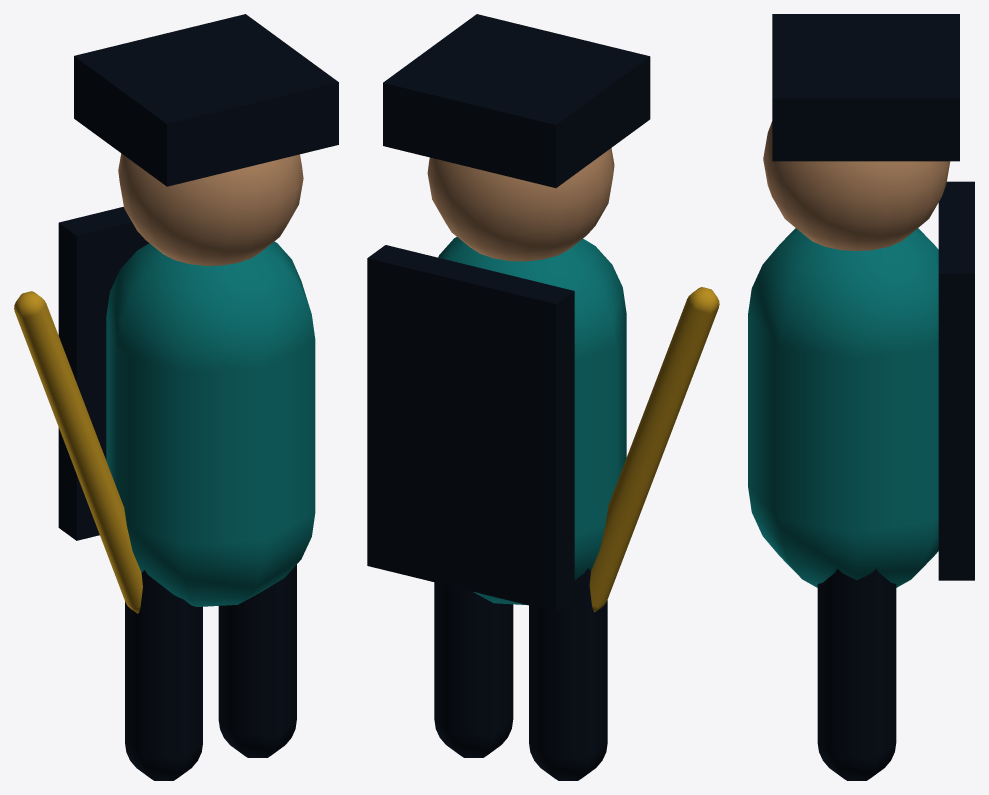
The model's file is action3d-avatar.glb.
3 views of the same model, side by side, from view 1: azimuth 30°, elevation 25°; view 2: azimuth 150°, elevation 25°; view 3: azimuth 270°, elevation 25° (orthographic).
Parts seen in each view (by area): view 1: Body, Hair, Head, RightLeg, Cape, LeftLeg, Sword; view 2: Cape, Hair, Body, RightLeg, Head, LeftLeg, Sword; view 3: Body, Hair, LeftLeg, Cape, Head.
Part boxes in pixels (x1=…): Body: x1=106, y1=241, x2=315, y2=606; Hair: x1=74, y1=14, x2=338, y2=186; Head: x1=118, y1=153, x2=303, y2=265; RightLeg: x1=125, y1=570, x2=202, y2=780; Cape: x1=58, y1=206, x2=148, y2=540; LeftLeg: x1=218, y1=564, x2=296, y2=757; Sword: x1=14, y1=291, x2=142, y2=613; Cape: x1=367, y1=245, x2=574, y2=611; Hair: x1=383, y1=14, x2=650, y2=187; Body: x1=438, y1=237, x2=626, y2=605; RightLeg: x1=529, y1=568, x2=607, y2=780; Head: x1=427, y1=148, x2=614, y2=261; LeftLeg: x1=434, y1=582, x2=513, y2=757; Sword: x1=589, y1=287, x2=719, y2=612; Body: x1=748, y1=228, x2=938, y2=587; Hair: x1=772, y1=14, x2=959, y2=161; LeftLeg: x1=817, y1=568, x2=896, y2=780; Cape: x1=938, y1=181, x2=974, y2=580; Head: x1=763, y1=121, x2=950, y2=250.
Bounding box in the file's own units: 1.1 × 2.55 × 0.75.
